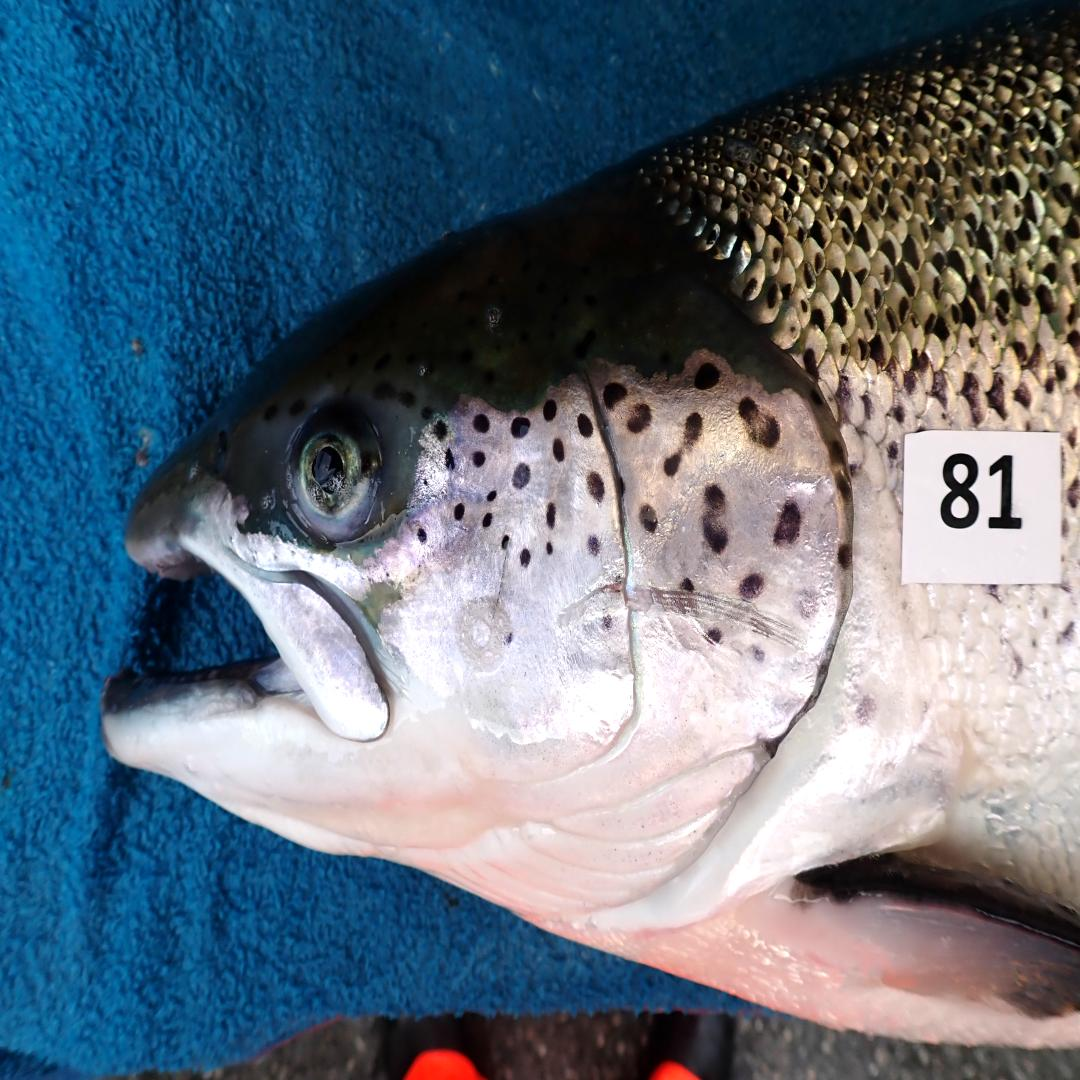roi: (379, 347, 853, 928)
